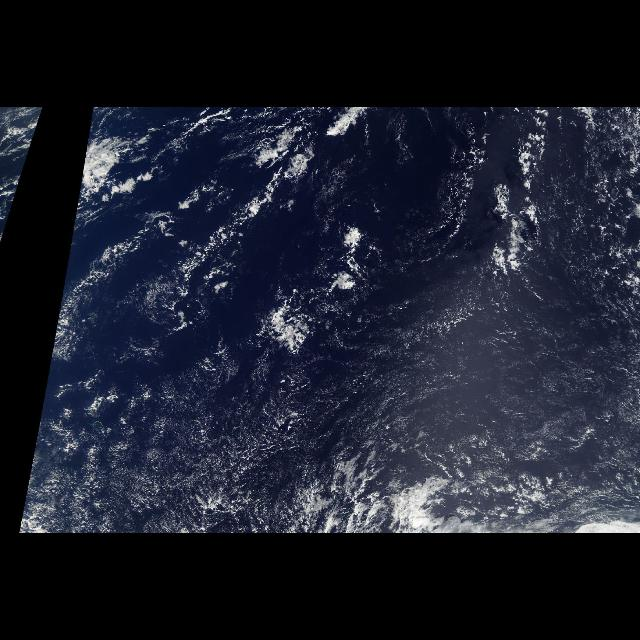Sugar: (18, 297, 630, 528)
